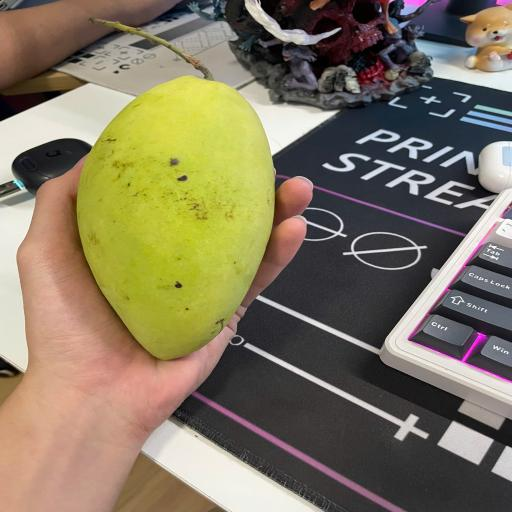xoai: (77, 77, 274, 359)
